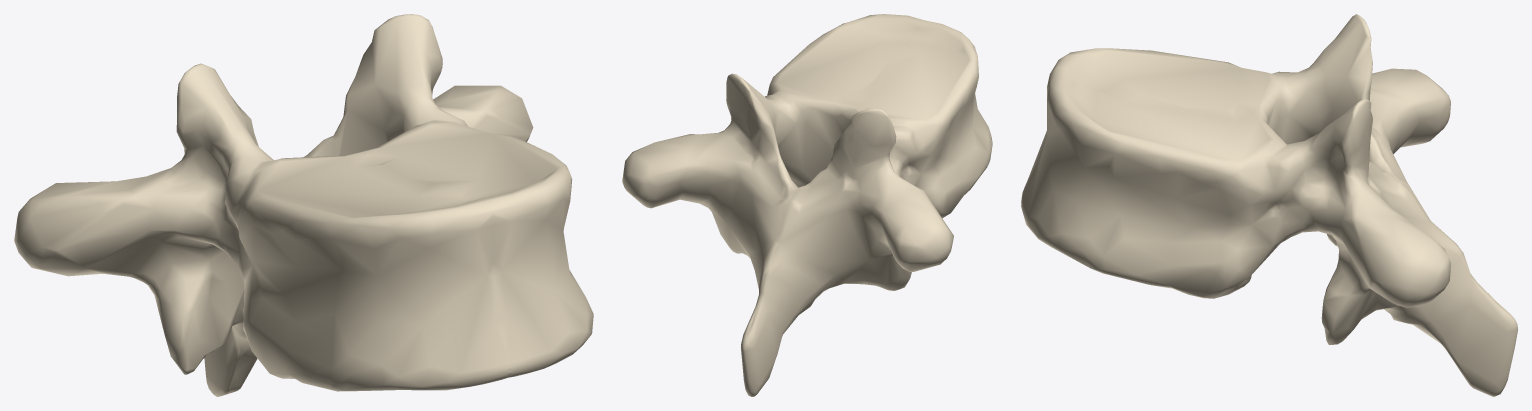
Rendered from vertebra-t9.glb.
3 views of the same model, side by side, from view 1: azimuth 30°, elevation 25°; view 2: azimuth 150°, elevation 25°; view 3: azimuth 270°, elevation 25° (orthographic). The views are drawn at different scales.
Visible parts, largest first — view 1: Vertebra T9; view 2: Vertebra T9; view 3: Vertebra T9.
Part boxes in pixels (bbox=[...]): Vertebra T9: bbox=[14, 14, 593, 396]; Vertebra T9: bbox=[622, 14, 992, 396]; Vertebra T9: bbox=[1021, 14, 1517, 396].
Bounding box in the file's own units: 0.0723 × 0.0566 × 0.0757.
